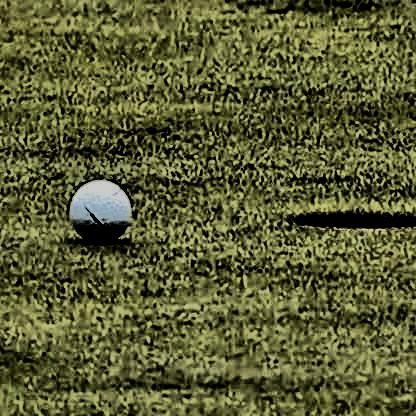golfball: (67, 177, 130, 239)
